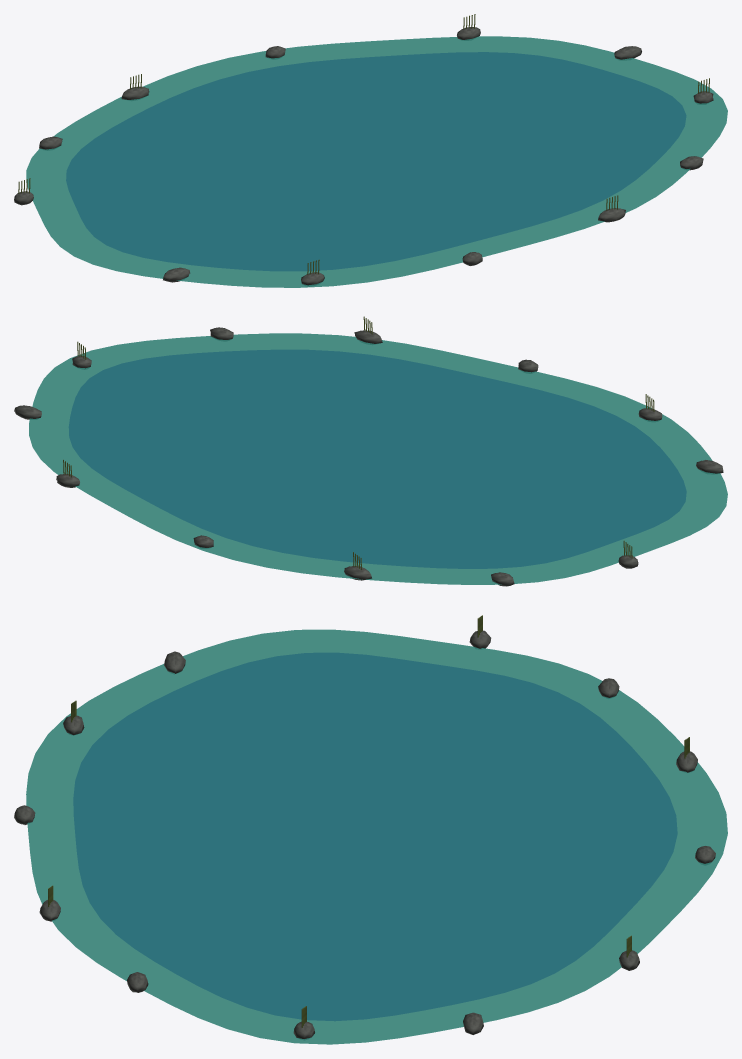
Rendered from water_v3.obj.
3 views of the same model, one above another, from view 1: azimuth 30°, elevation 25°; view 2: azimuth 150°, elevation 25°; view 3: azimuth 270°, elevation 25° (orthographic). The views are drawn at different scales.
Visible parts, largest first — view 1: StoryWorld_YunxiLake_v3; view 2: StoryWorld_YunxiLake_v3; view 3: StoryWorld_YunxiLake_v3.
Boxes of the visible parts, box(x1,y1,x2,y2) form: StoryWorld_YunxiLake_v3: box(14, 14, 727, 287); StoryWorld_YunxiLake_v3: box(14, 316, 727, 586); StoryWorld_YunxiLake_v3: box(14, 615, 727, 1044).
Bounding box in the file's own units: 48.52 × 1.8 × 35.27.
Materials: 4 (2 with a texture image).
